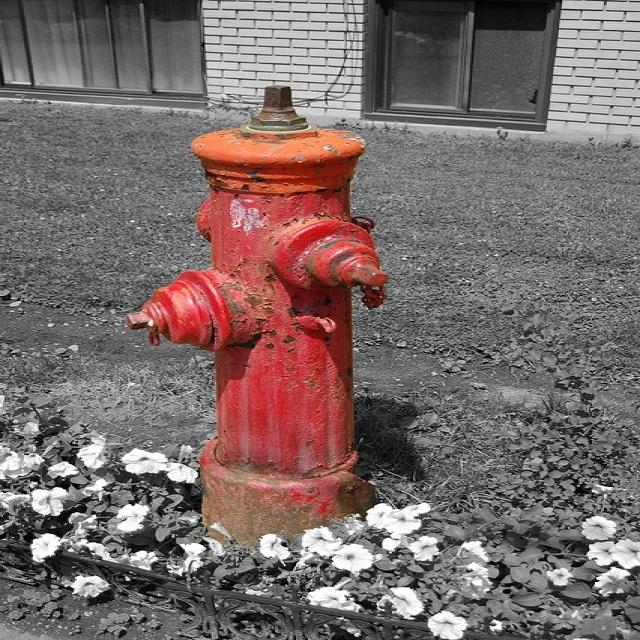fire_hydrant: (157, 76, 431, 540)
